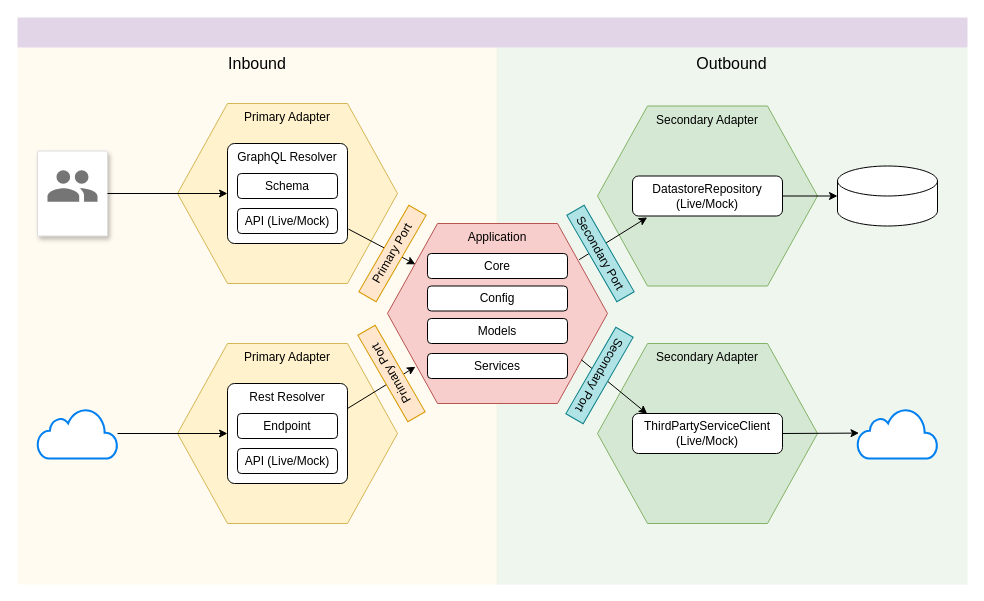
Image size: 984x601. Some labels were removed from this diagram. Here are the shapes that lost their labels. From the top down, the centre of each, then its label:
the point at 492,32: Hexagonal Architecture
the point at 73,194: Users
